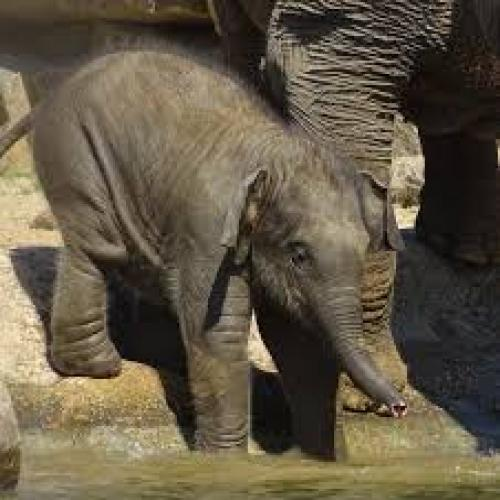asian_elephant-endangered: (20, 0, 496, 420), (19, 50, 411, 460)
